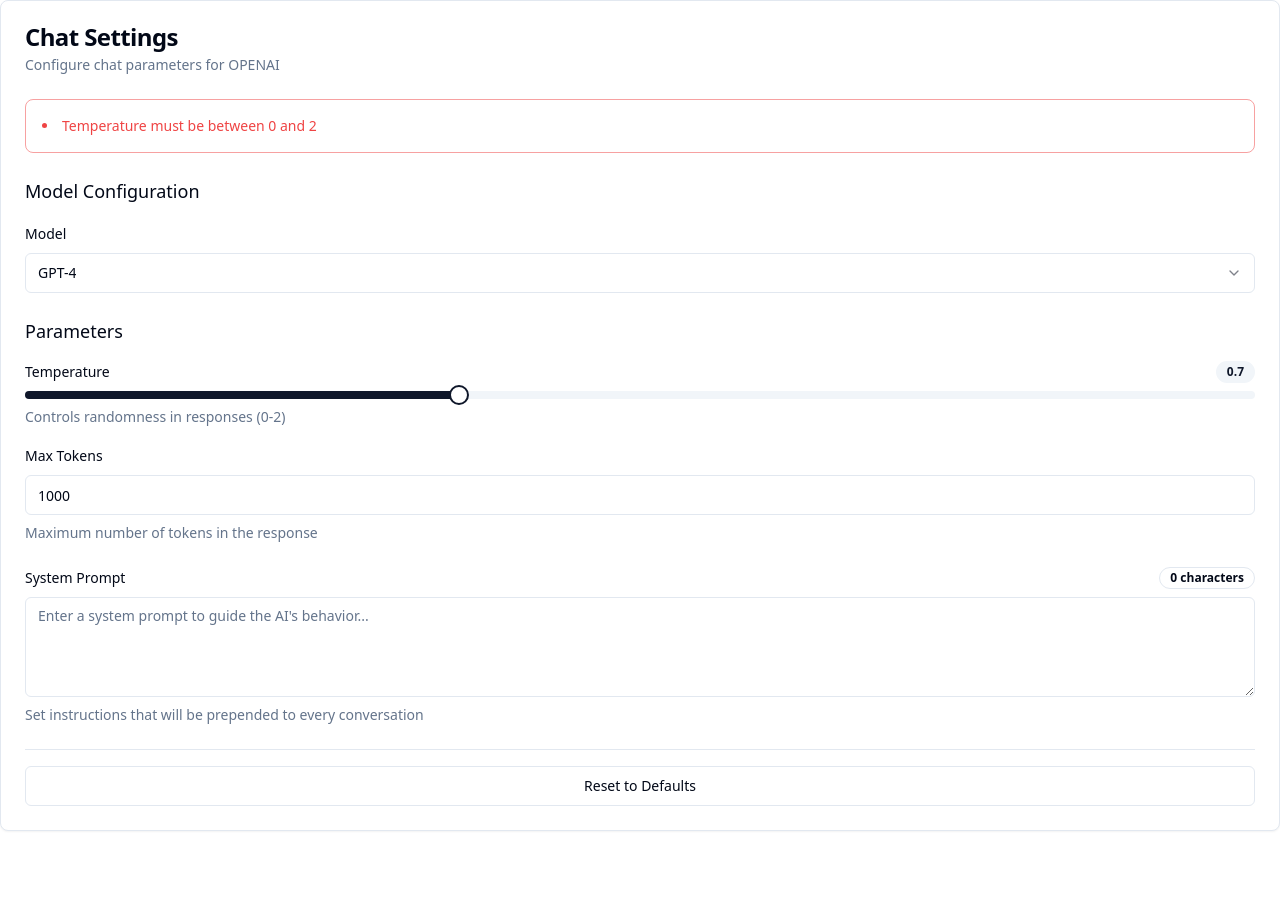
it: ChatSettings › Reset to Defaults › should show confirmation dialog before resetting
Click the button "Reset to Defaults": (640, 786) [25, 766, 1255, 806]
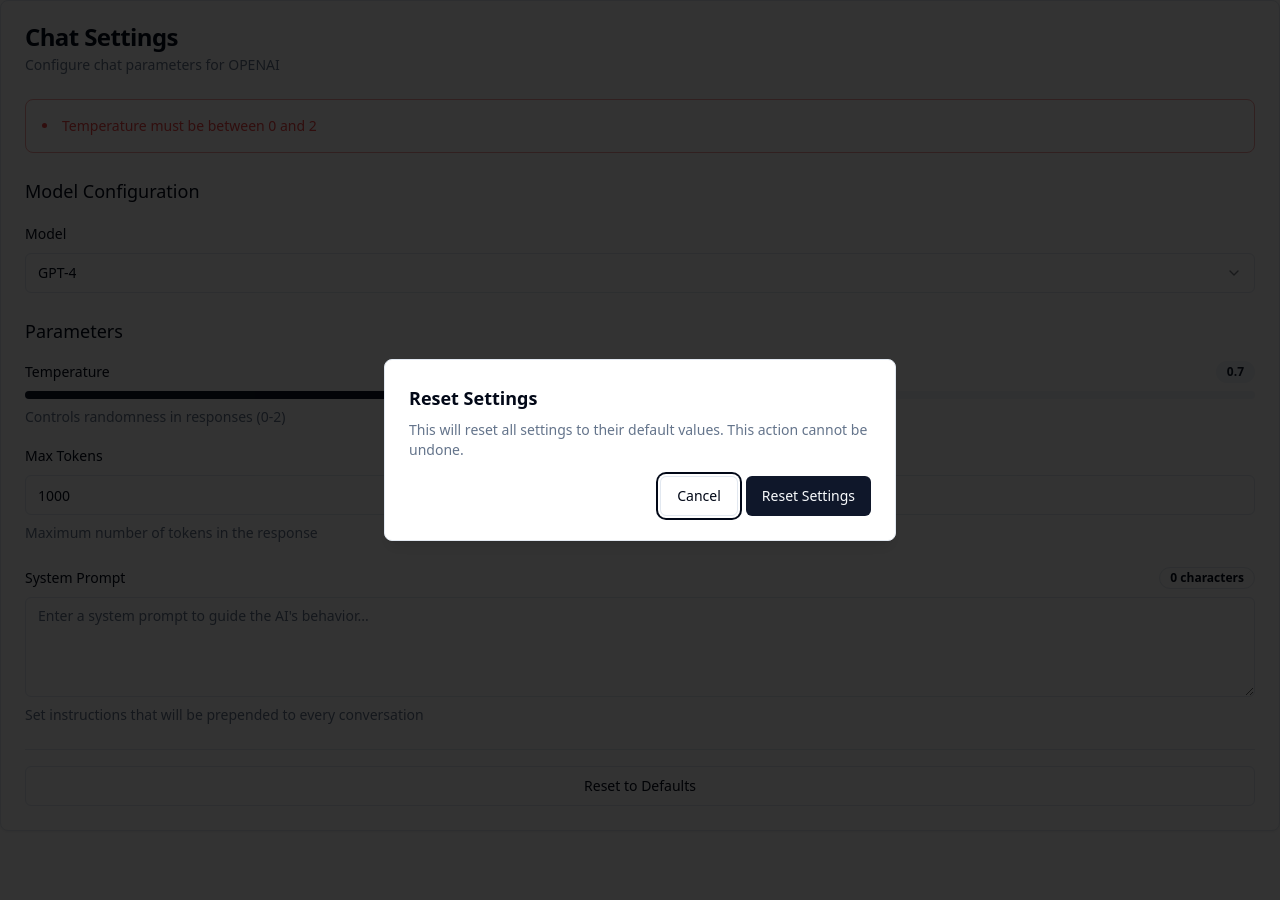
Check: the dialog "Reset Settings" is shown, box [384, 359, 896, 541]
Check: the text "This will reset all settings to their default values" is shown, box [409, 420, 867, 459]
